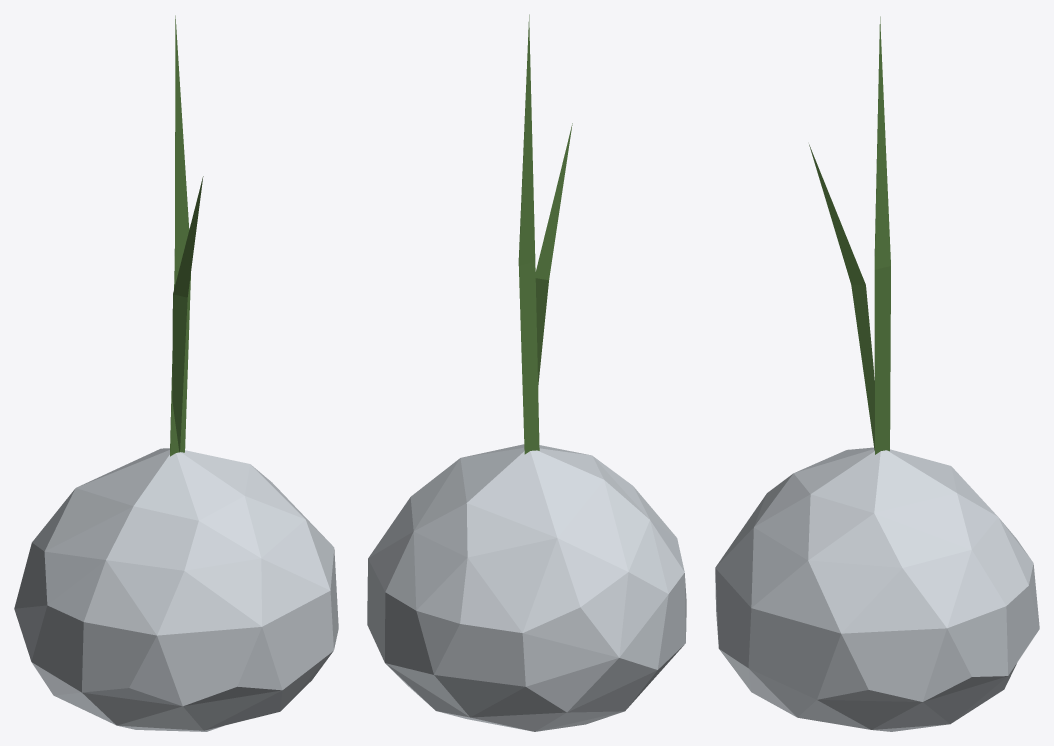
File: Onion_White.fbx
3 views of the same model, side by side, from view 1: azimuth 30°, elevation 25°; view 2: azimuth 150°, elevation 25°; view 3: azimuth 270°, elevation 25° (orthographic).
Visible parts, largest first — view 1: Onion_White; view 2: Onion_White; view 3: Onion_White.
Boxes of the visible parts, x1=… form: Onion_White: x1=14, y1=15, x2=338, y2=731; Onion_White: x1=367, y1=14, x2=686, y2=731; Onion_White: x1=715, y1=16, x2=1039, y2=731.
Bounding box in the file's own units: 16.65 × 38.72 × 16.74.
